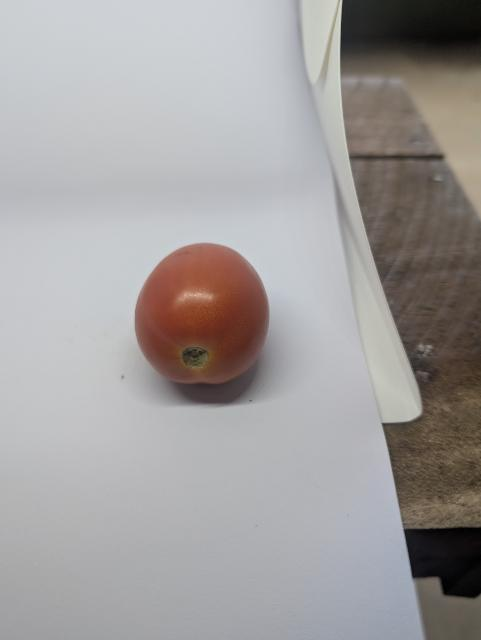red: (122, 228, 287, 406)
